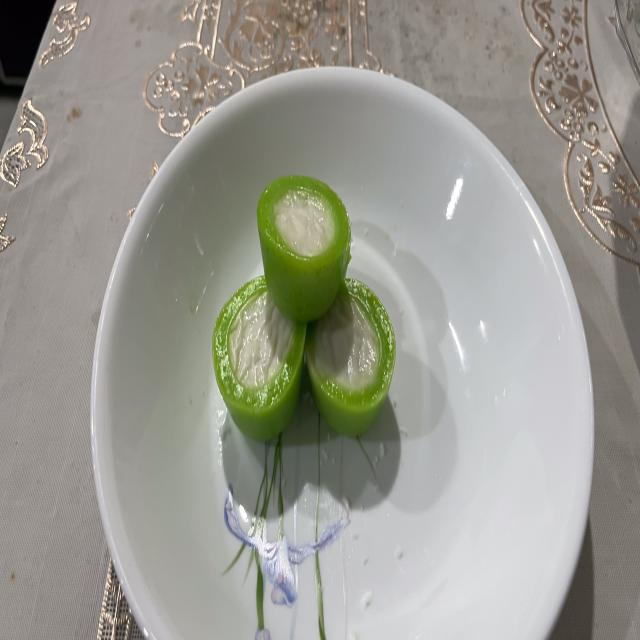nona-manis: (212, 278, 306, 440), (306, 280, 395, 436), (258, 176, 351, 322)
